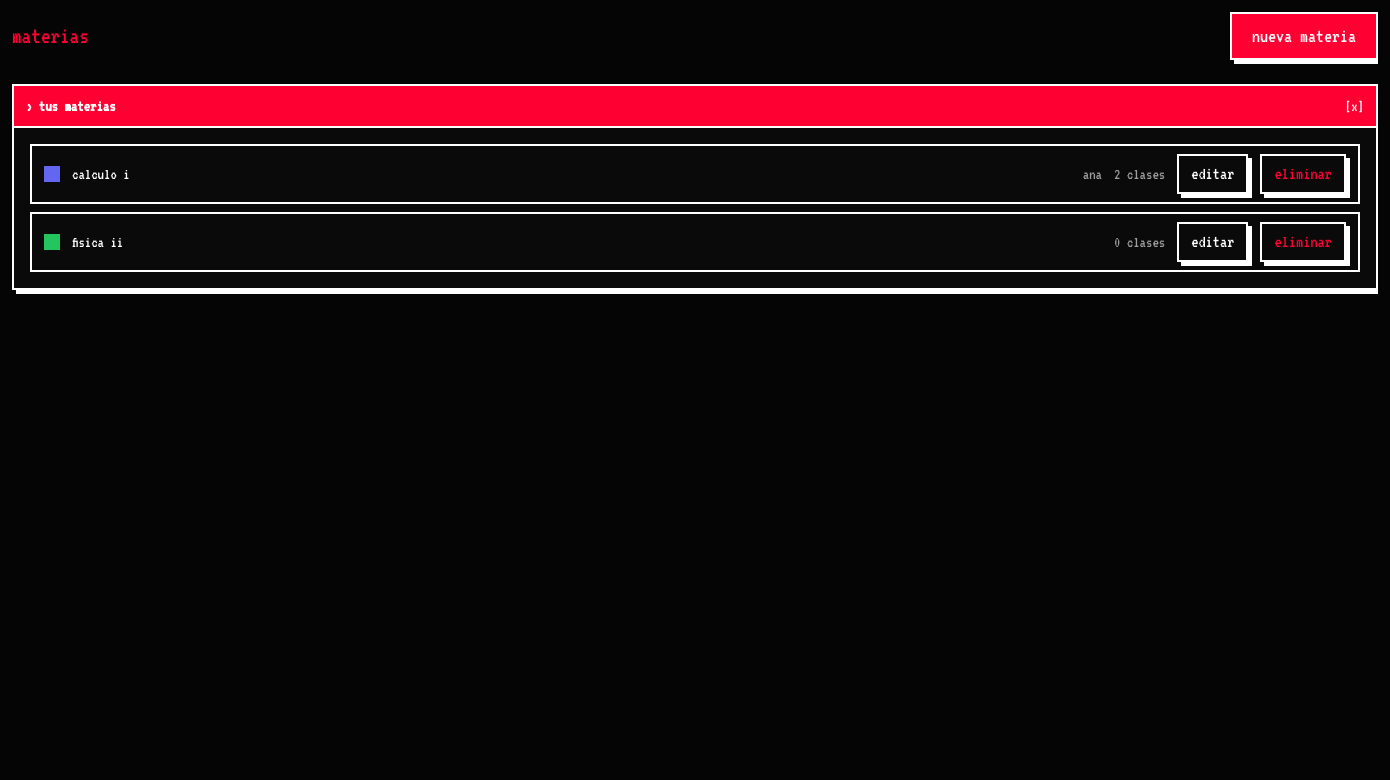
Test: MateriasPage · cambio de materia en edición › carga los valores de la materia que se abre
The image size is (1390, 780).
Click the button "editar" in the row of "calculo i" at {"x": 1213, "y": 174}, box [1177,154,1248,194]
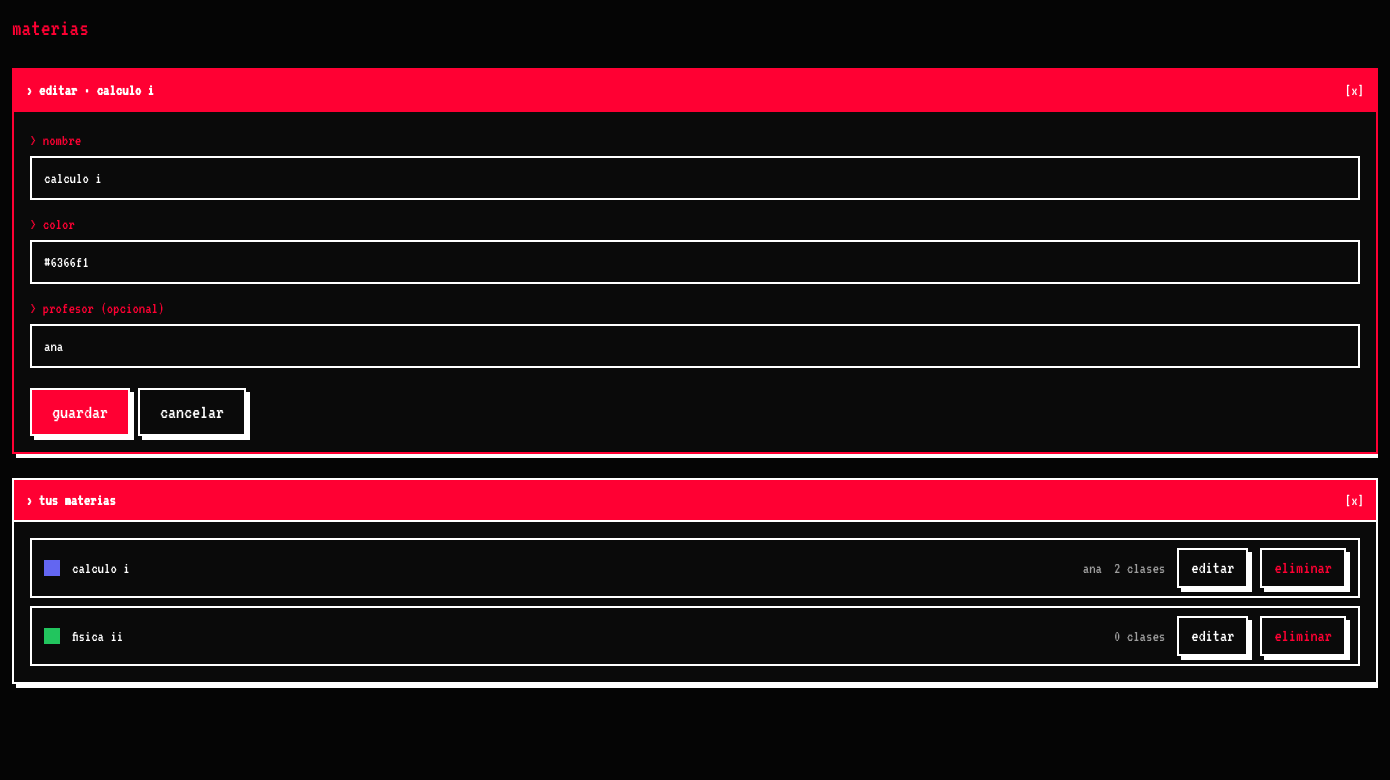
Expected: the field labelled "> nombre" holds "calculo i", [30,156,1360,200]
Click the button "editar" in the row of "fisica ii" at {"x": 1213, "y": 636}, box [1177,616,1248,656]
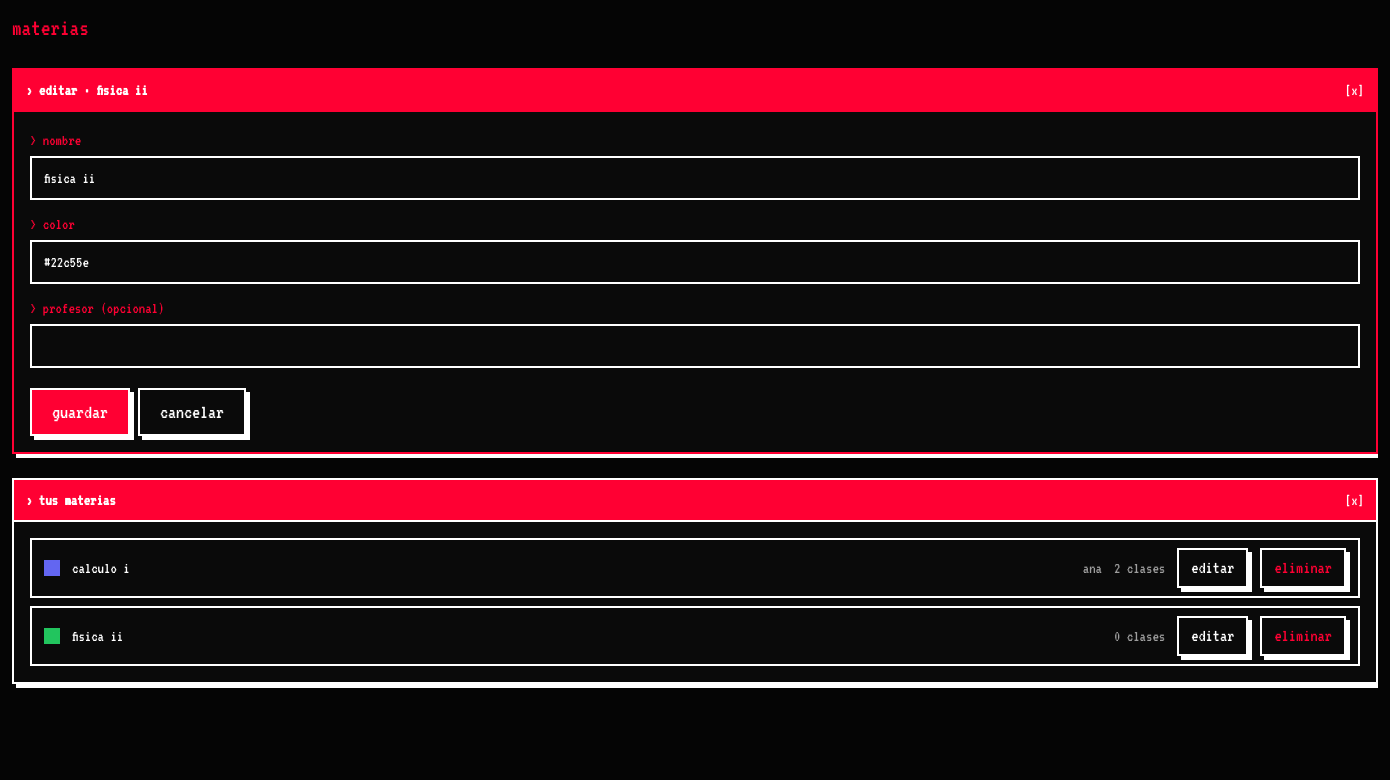
Expected: the field labelled "> nombre" holds "fisica ii", [30,156,1360,200]
